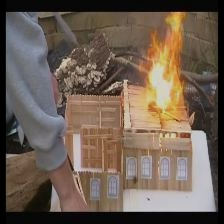fire: (140, 11, 190, 118)
